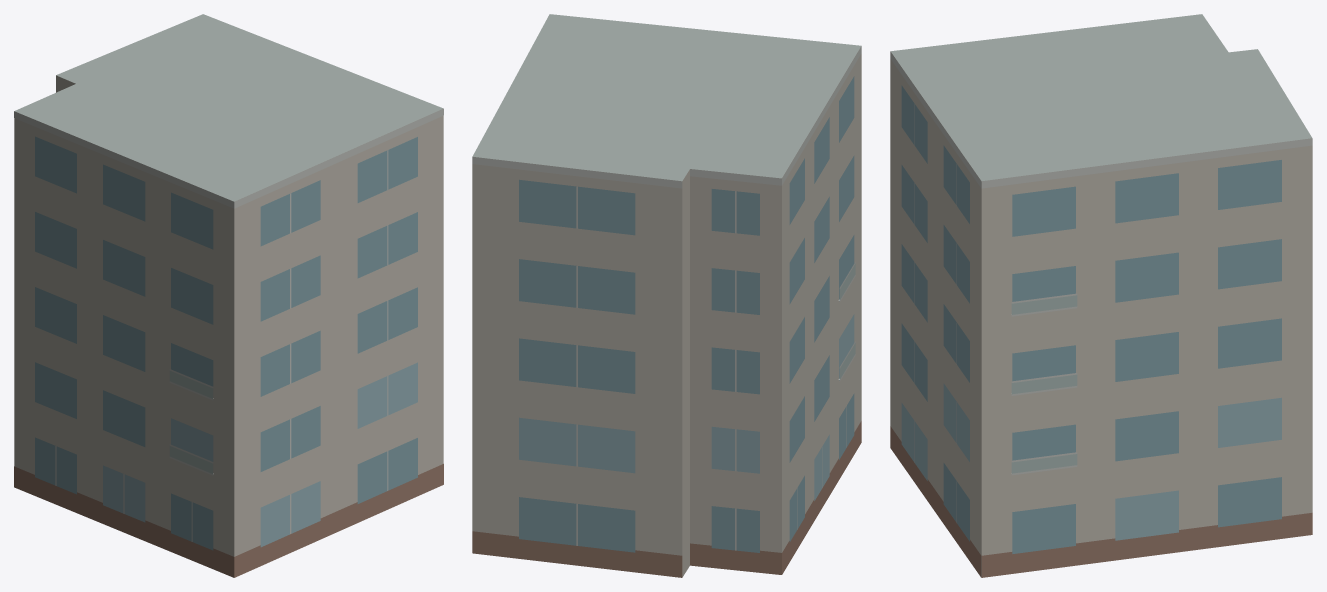
Rendered from survey-upis-32525239.glb.
3 views of the same model, side by side, from view 1: azimuth 30°, elevation 25°; view 2: azimuth 150°, elevation 25°; view 3: azimuth 270°, elevation 25° (orthographic). The views are drawn at different scales.
Visible parts, largest first — view 1: survey-upis-32525239.tmp; view 2: survey-upis-32525239.tmp; view 3: survey-upis-32525239.tmp.
Boxes of the visible parts, x1,y1,x2,y2 form: survey-upis-32525239.tmp: (14,14,443,577); survey-upis-32525239.tmp: (472,14,861,577); survey-upis-32525239.tmp: (890,14,1312,577).
Size of the model in its own units: 11.9 by 13.15 by 12.69.
